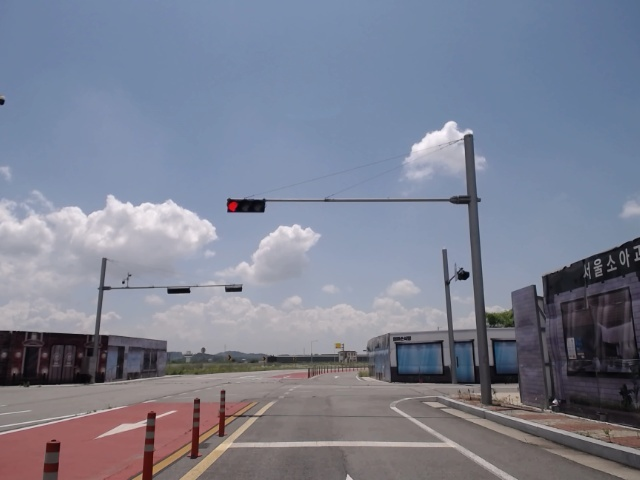red_3: (224, 199, 269, 214)
